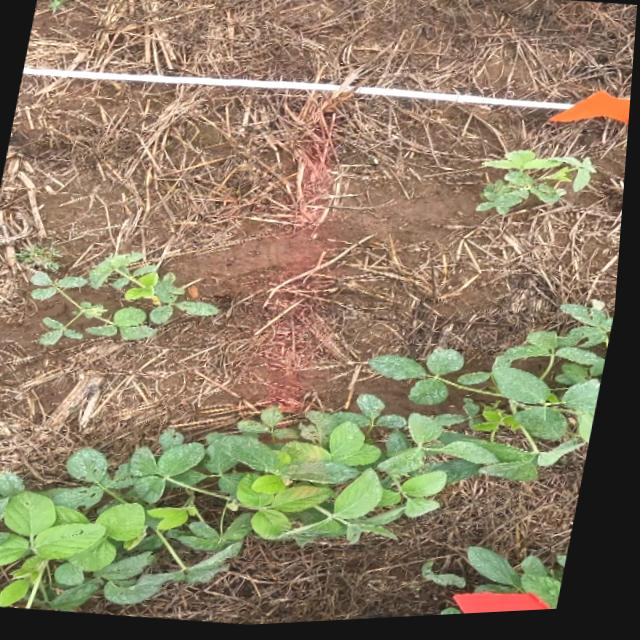grassy_weed: (19, 242, 66, 271)
soy_plant: (0, 311, 617, 611), (35, 253, 224, 345), (479, 155, 598, 219), (476, 551, 575, 615), (432, 566, 477, 593)
